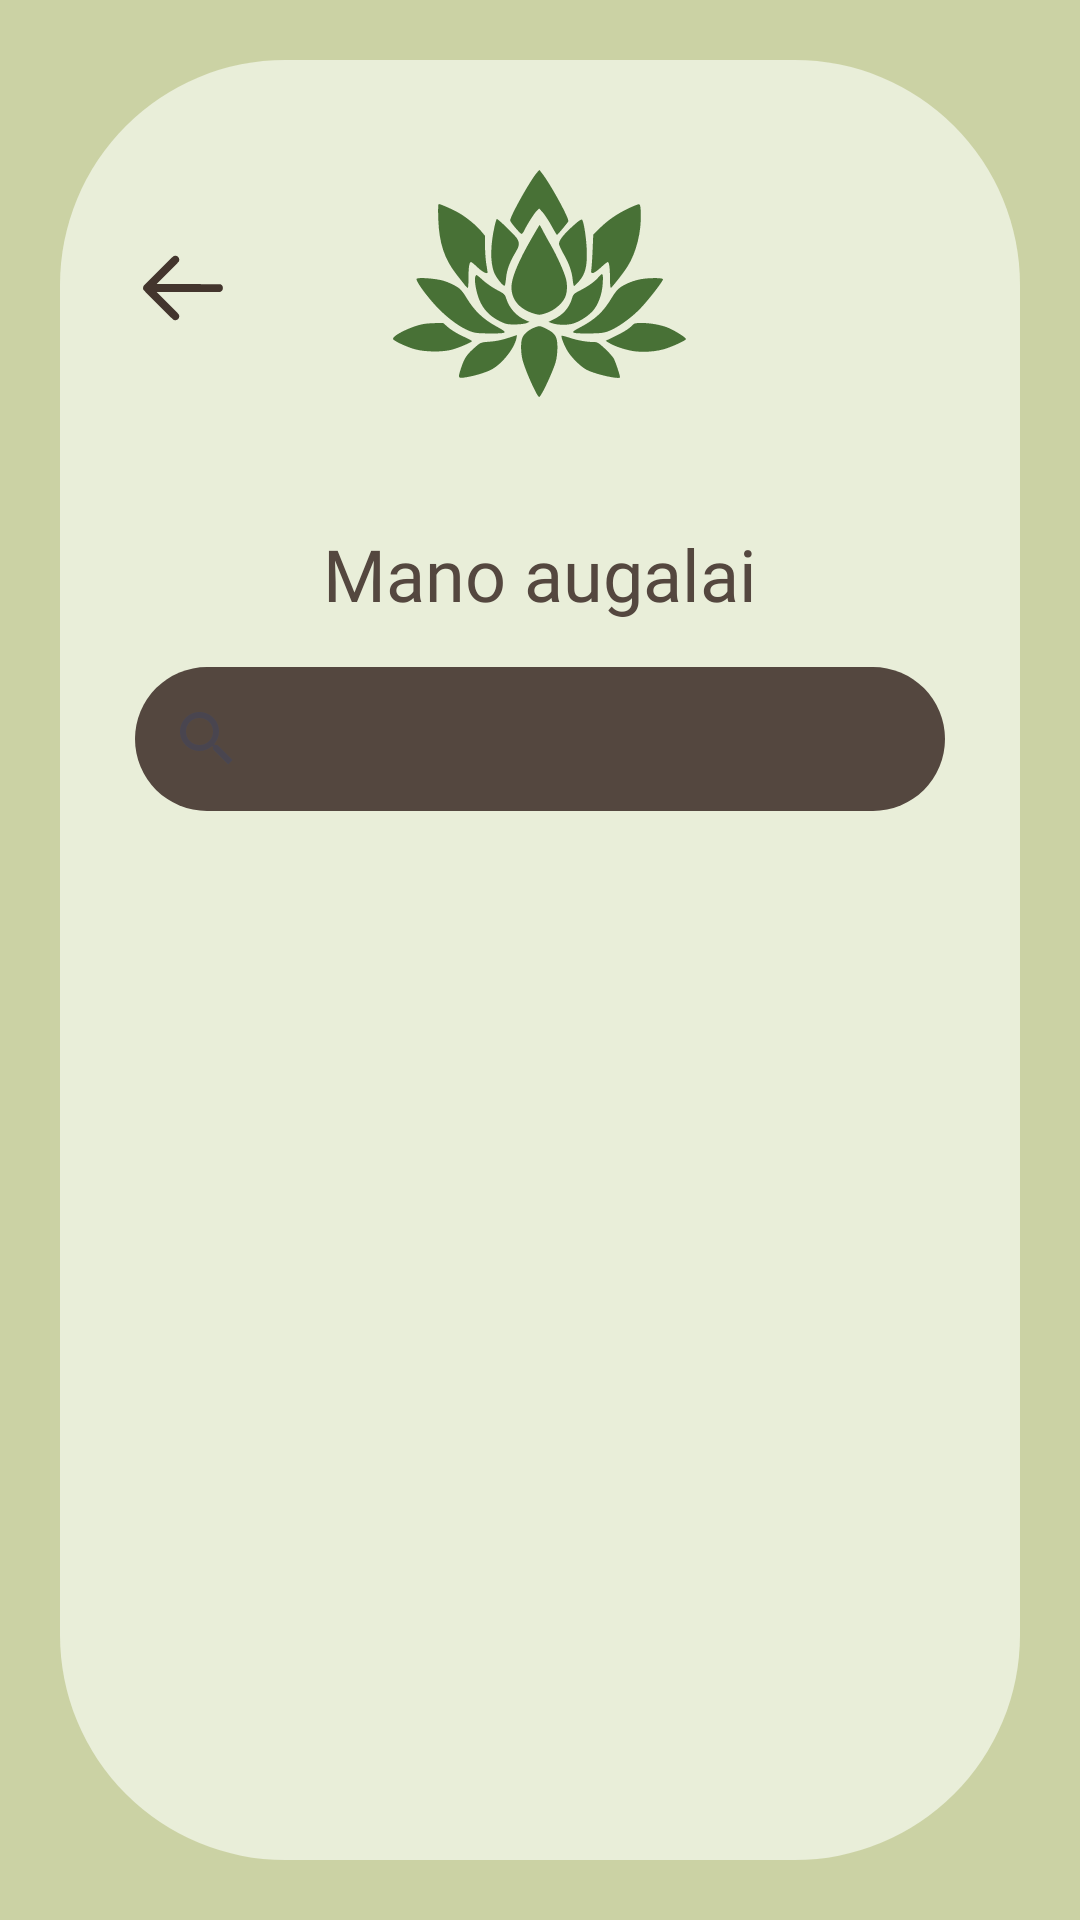

Icon bounding boxes for this 1080x1920 phone screenshot, format (x1, y1, x2, y2):
Lotus icon: (393, 170, 686, 397)
